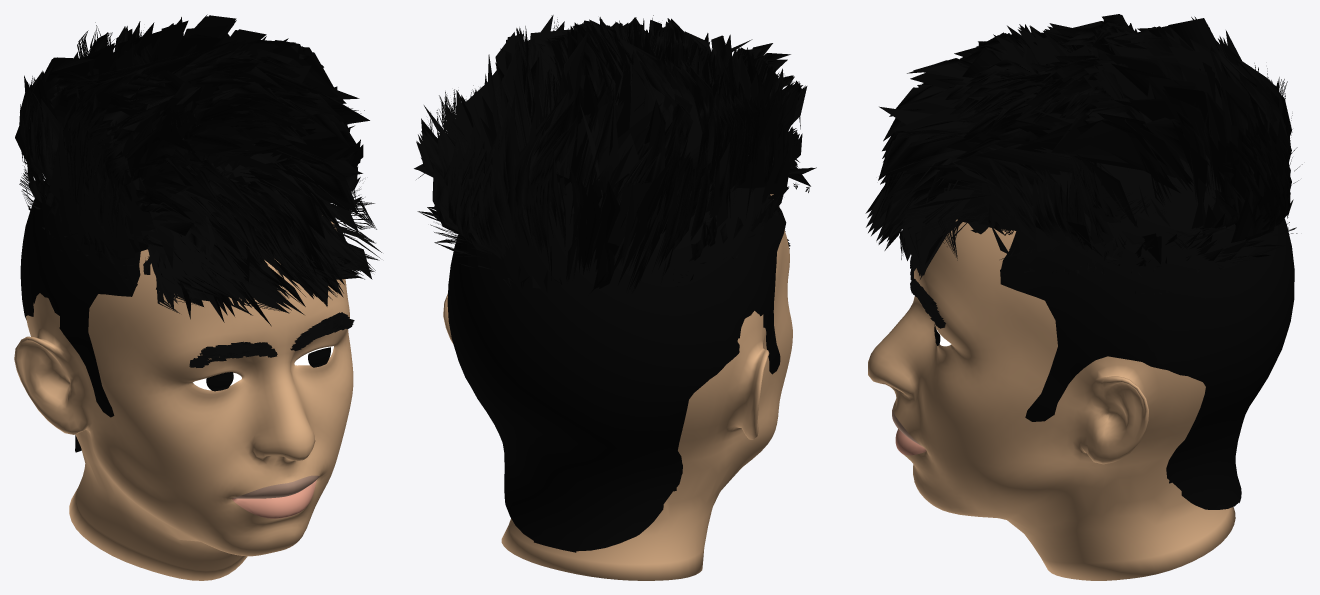
The model's file is Umar_Statue.gltf.
The picture shows the model from 3 angles, left to right: view 1: azimuth 30°, elevation 25°; view 2: azimuth 150°, elevation 25°; view 3: azimuth 270°, elevation 25°; orthographic projection. The views are drawn at different scales.
Visible parts, largest first — view 1: FaceBuilderHead, Mesh, Mesh.003, FaceBuilderHead.006, Mesh.002, FaceBuilderHead.004, FaceBuilderHead.005; view 2: FaceBuilderHead.006, Mesh.003, FaceBuilderHead, Mesh; view 3: FaceBuilderHead, FaceBuilderHead.006, Mesh, Mesh.003, Mesh.002.
Boxes of the visible parts, box(x1,y1,x2,y2) form: FaceBuilderHead: box(14, 221, 353, 580); Mesh: box(69, 40, 381, 326); Mesh.003: box(15, 14, 300, 251); FaceBuilderHead.006: box(20, 123, 345, 452); Mesh.002: box(189, 312, 354, 367); FaceBuilderHead.004: box(232, 480, 316, 518); FaceBuilderHead.005: box(233, 475, 319, 498); FaceBuilderHead.006: box(447, 156, 786, 552); Mesh.003: box(414, 26, 755, 295); FaceBuilderHead: box(443, 194, 792, 580); Mesh: box(487, 15, 816, 234); FaceBuilderHead: box(868, 219, 1235, 580); FaceBuilderHead.006: box(957, 155, 1294, 509); Mesh: box(865, 21, 1188, 279); Mesh.003: box(1093, 14, 1302, 294); Mesh.002: box(910, 256, 945, 328).
Bounding box in the file's own units: 1.81 × 2.86 × 2.16.
